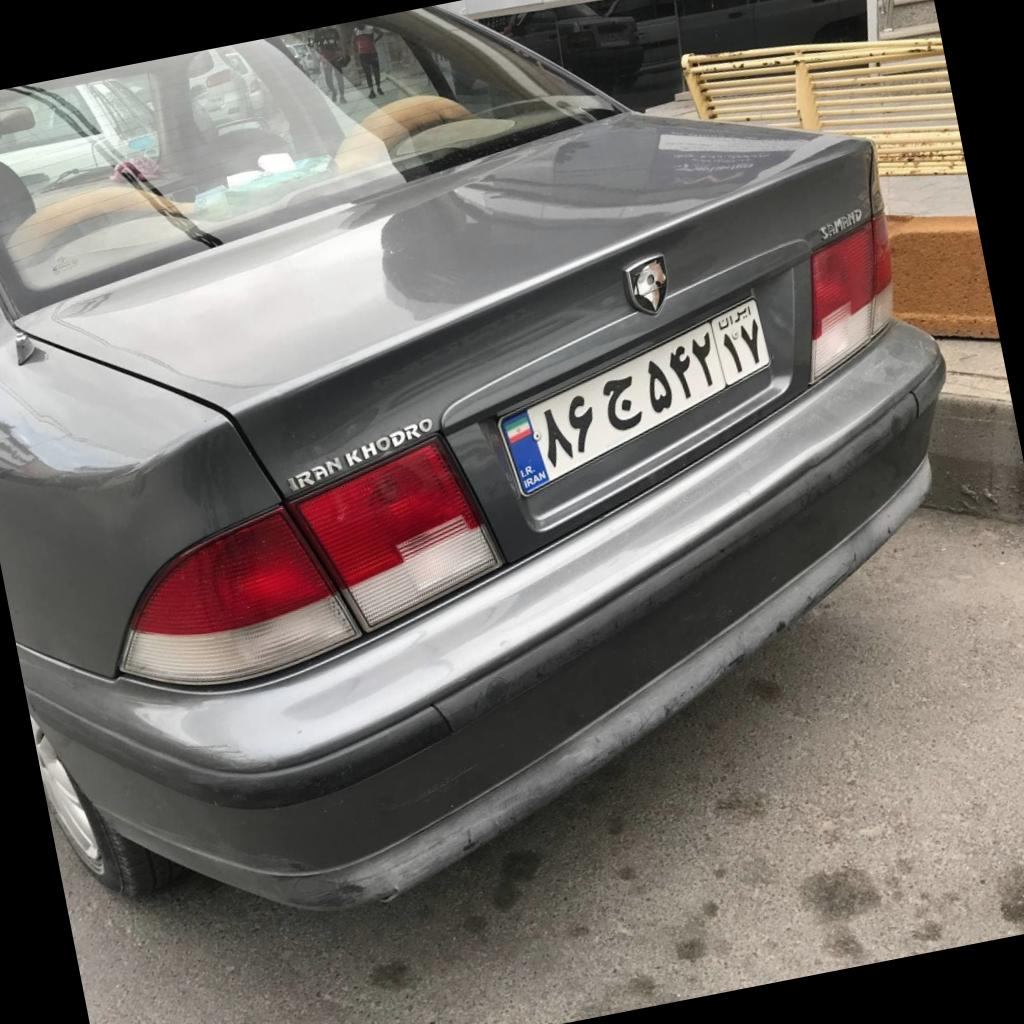Plates: (498, 297, 771, 497)
